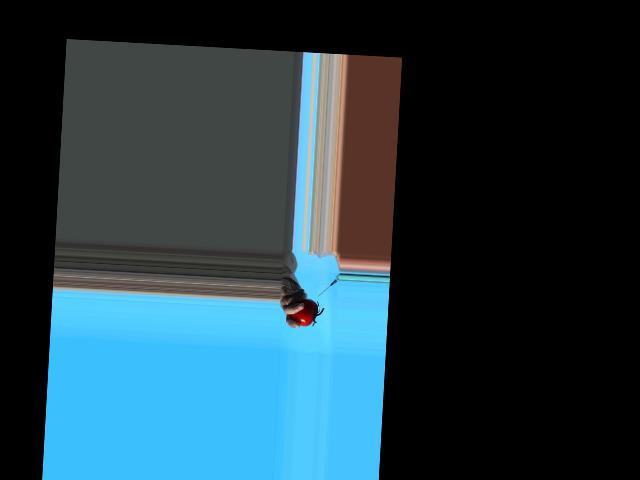tomato: (289, 298, 318, 327)
